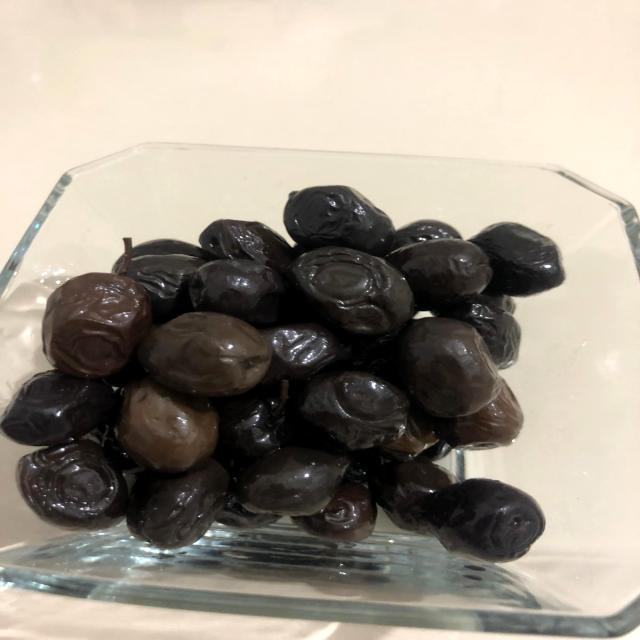olive: (39, 175, 560, 564), (126, 294, 298, 401), (289, 240, 440, 346), (404, 469, 559, 565), (217, 443, 360, 517)
